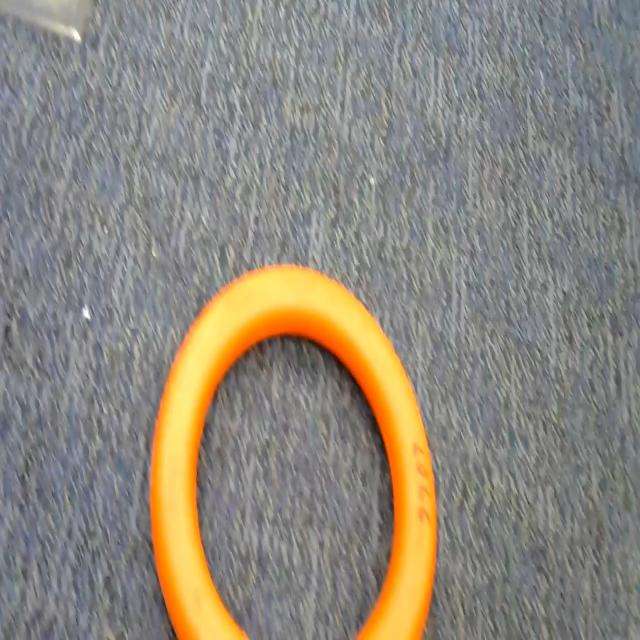note: (143, 242, 447, 640)
